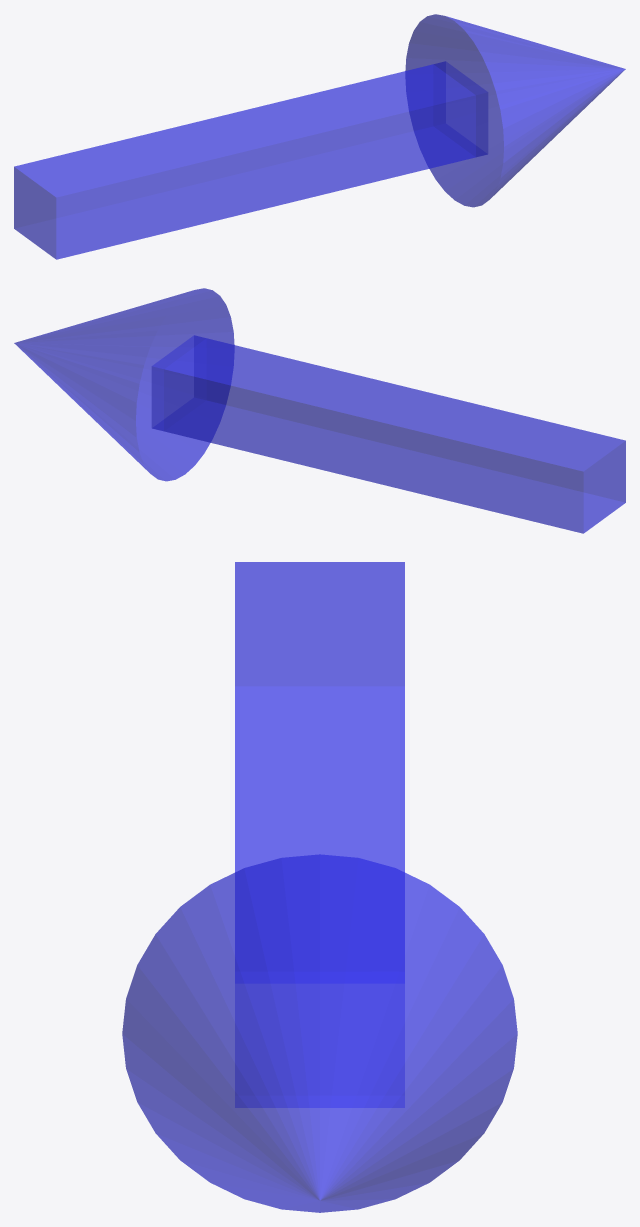
File: blueTArrow.obj
3 views of the same model, one above another, from view 1: azimuth 30°, elevation 25°; view 2: azimuth 150°, elevation 25°; view 3: azimuth 270°, elevation 25° (orthographic). The views are drawn at different scales.
Visible parts, largest first — view 1: Cube, Cone; view 2: Cube, Cone; view 3: Cone, Cube.
Boxes of the visible parts, x1,y1,x2,y2 form: Cube: (14,61,487,259); Cone: (405,14,625,207); Cube: (152,335,625,533); Cone: (14,288,234,481); Cone: (122,854,517,1212); Cube: (235,562,404,1107).
Size of the model in its own units: 5.17 by 1.5 by 1.5.
Materials: 2 (2 with a texture image).
